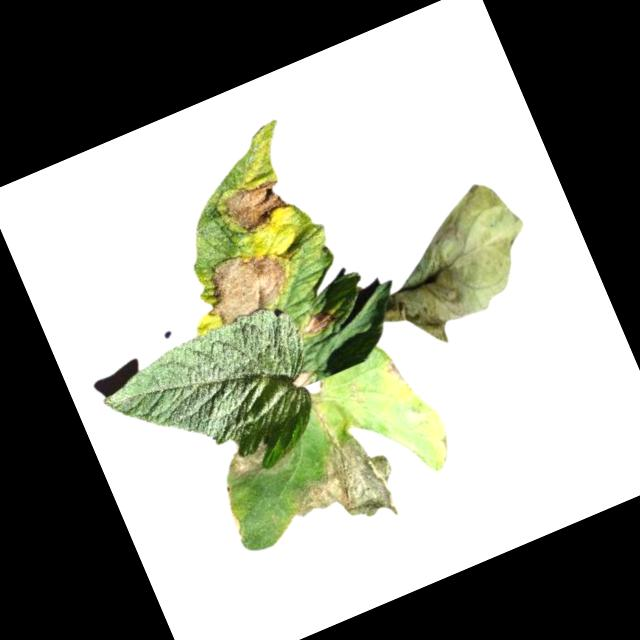Late_blight: (348, 171, 556, 364), (272, 419, 409, 551), (189, 236, 300, 332), (216, 169, 298, 242), (224, 433, 276, 485), (378, 353, 414, 398), (295, 305, 338, 339), (337, 378, 369, 411), (224, 506, 250, 541), (288, 365, 318, 389)
healthy: (93, 299, 342, 517)
